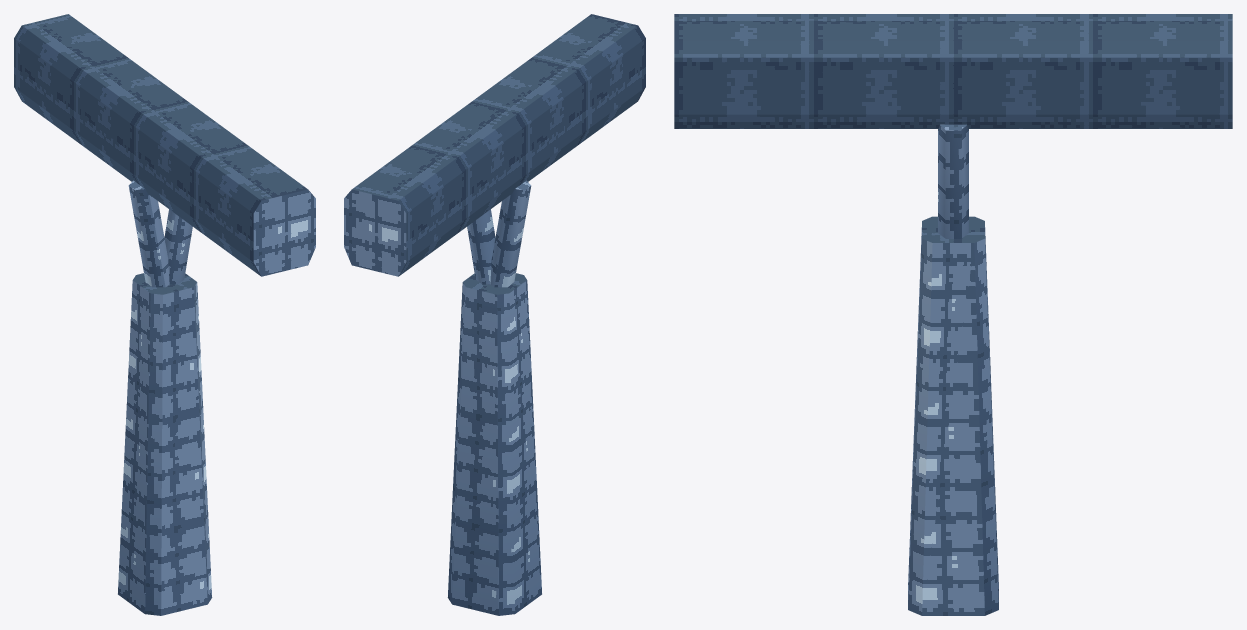
Rendered from cystreet.rail.glb.
3 renders of one model, left to right at view 1: azimuth 30°, elevation 25°; view 2: azimuth 150°, elevation 25°; view 3: azimuth 270°, elevation 25°, orthographic. The views are drawn at different scales.
Parts seen in each view (by area): view 1: kit_beam; view 2: kit_beam; view 3: kit_beam.
Part boxes in pixels (bbox=[...]): kit_beam: bbox=[14, 14, 315, 615]; kit_beam: bbox=[344, 14, 645, 615]; kit_beam: bbox=[674, 14, 1232, 615].
Size of the model in its own units: 1.3 by 9 by 8.
3 materials, 3 textured.
